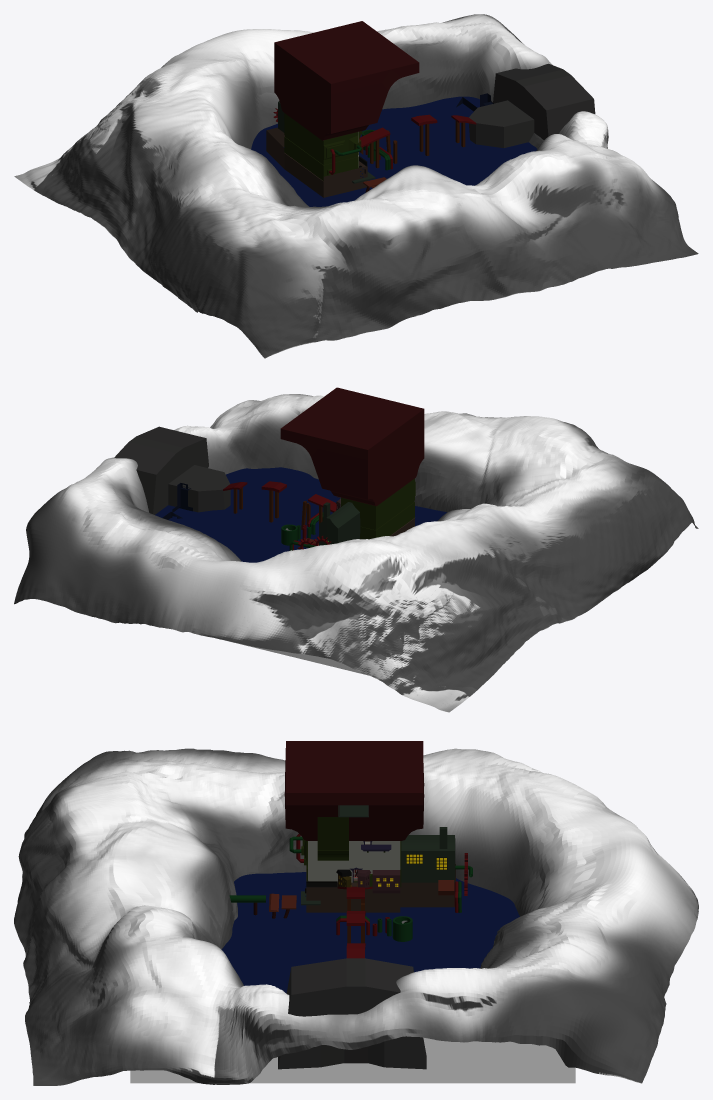
File: FinalLevel.fbx
3 views of the same model, one above another, from view 1: azimuth 30°, elevation 25°; view 2: azimuth 150°, elevation 25°; view 3: azimuth 270°, elevation 25° (orthographic). The views are drawn at different scales.
Parts seen in each view (by area): view 1: Plane.002, Cube.058, Cube.051, Cube.082, Cube.059, Cube.001, Plane; view 2: Plane.002, Cube.058, Cube.051, Cube.082, Cube.059, Cube.033, Plane; view 3: Plane.002, Cube.051, Cube.058, Cube.082, Cube.001, Cube.033, Cube.003, Cube.059, Plane, Cube.018.
Part boxes in pixels (<box>): Plane.002: <box>14,14,698,358</box>; Cube.058: <box>274,21,419,140</box>; Cube.051: <box>251,96,537,206</box>; Cube.082: <box>469,63,595,147</box>; Cube.059: <box>284,113,362,180</box>; Cube.001: <box>266,127,367,197</box>; Plane: <box>359,114,476,147</box>; Plane.002: <box>14,394,698,712</box>; Cube.058: <box>280,387,424,506</box>; Cube.051: <box>155,467,446,675</box>; Cube.082: <box>114,426,230,514</box>; Cube.059: <box>341,478,415,539</box>; Cube.033: <box>319,502,360,545</box>; Plane: <box>223,481,336,512</box>; Plane.002: <box>14,748,698,1085</box>; Cube.051: <box>130,872,575,1083</box>; Cube.058: <box>284,741,424,840</box>; Cube.082: <box>278,958,426,1069</box>; Cube.001: <box>306,864,455,912</box>; Cube.033: <box>400,827,455,882</box>; Cube.003: <box>308,841,400,882</box>; Cube.059: <box>301,817,401,887</box>; Plane: <box>337,886,372,958</box>; Cube.018: <box>372,870,400,893</box>.
Bounding box in the file's own units: 35326 × 13183 × 36310.
